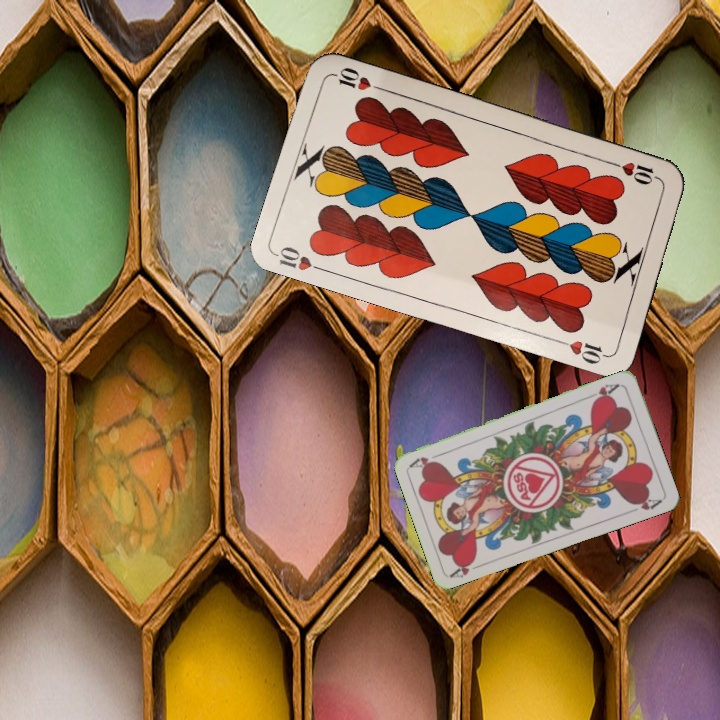H10: (273, 242, 331, 275), (606, 157, 664, 187)
HA: (447, 554, 487, 580), (584, 379, 622, 405)
